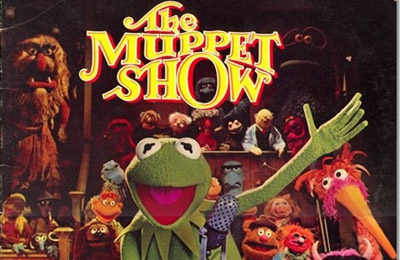kermit: (122, 135, 216, 232)
